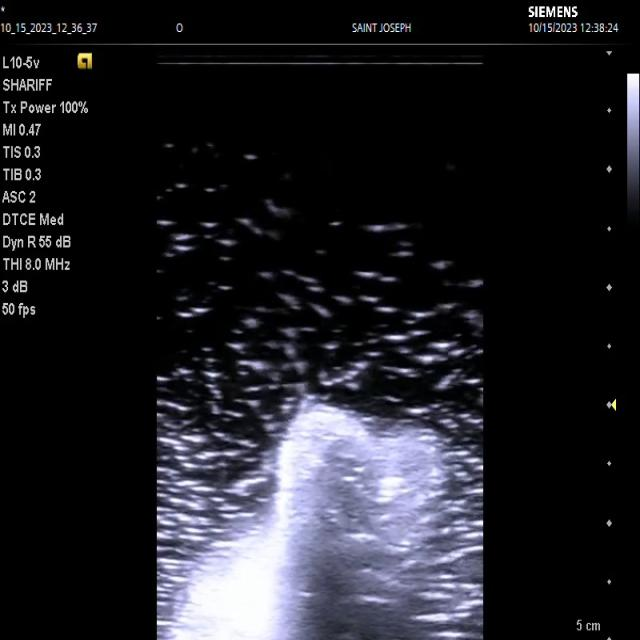tissue: (173, 405, 445, 640)
